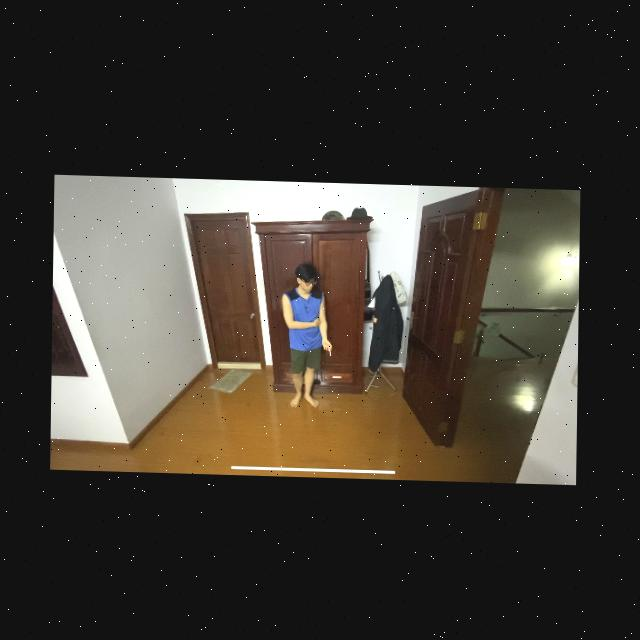cigarette: (330, 346, 332, 354)
